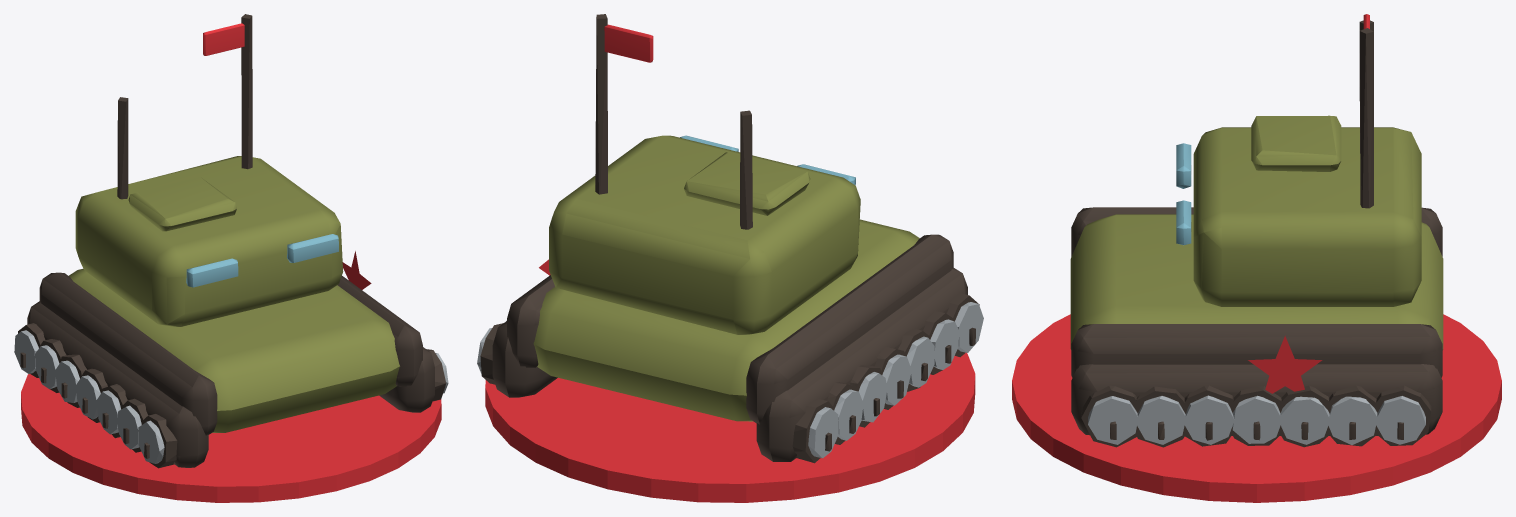
Rendered from soviet_union_commander_lod0.glb.
The picture shows the model from 3 angles, left to right: view 1: azimuth 30°, elevation 25°; view 2: azimuth 150°, elevation 25°; view 3: azimuth 270°, elevation 25°; orthographic projection. The views are drawn at different scales.
Visible parts, largest first — view 1: body_hull, base_pedestal; view 2: body_hull, base_pedestal; view 3: body_hull, base_pedestal.
Part boxes in pixels (bbox=[...]): body_hull: bbox=[14, 14, 448, 468]; base_pedestal: bbox=[21, 374, 441, 502]; body_hull: bbox=[477, 14, 983, 463]; base_pedestal: bbox=[485, 352, 975, 502]; body_hull: bbox=[1070, 14, 1443, 447]; base_pedestal: bbox=[1012, 314, 1501, 502].
Bounding box in the file's own units: 0.78 × 0.7101 × 0.78.
